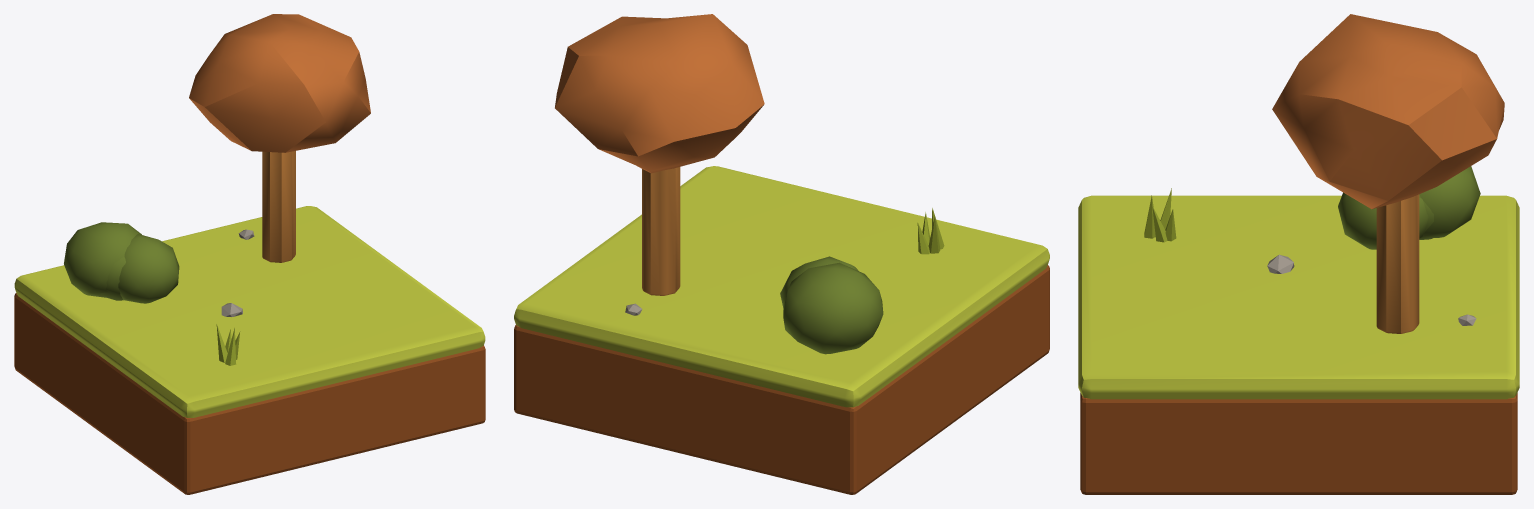
The model's file is tile_grove_autumn.glb.
3 views of the same model, side by side, from view 1: azimuth 30°, elevation 25°; view 2: azimuth 150°, elevation 25°; view 3: azimuth 270°, elevation 25° (orthographic). The views are drawn at different scales.
Visible parts, largest first — view 1: tile_grove_autumn_cap, tile_grove_autumn_body, ga_leaf, ga_trunk, tile_grove_autumn_b_lobe1, tile_grove_autumn_b_lobe2, tile_grove_autumn_b_lobe0; view 2: tile_grove_autumn_cap, tile_grove_autumn_body, ga_leaf, tile_grove_autumn_b_lobe1, ga_trunk, tile_grove_autumn_b_lobe2; view 3: tile_grove_autumn_cap, tile_grove_autumn_body, ga_leaf, ga_trunk, tile_grove_autumn_b_lobe1, tile_grove_autumn_b_lobe2.
Boxes of the visible parts, box(x1,y1,x2,y2) form: tile_grove_autumn_cap: box(14, 206, 485, 417); tile_grove_autumn_body: box(14, 293, 485, 494); ga_leaf: box(189, 14, 370, 152); ga_trunk: box(262, 151, 295, 262); tile_grove_autumn_b_lobe1: box(64, 222, 141, 297); tile_grove_autumn_b_lobe2: box(118, 234, 179, 303); tile_grove_autumn_b_lobe0: box(100, 230, 139, 300); tile_grove_autumn_cap: box(514, 166, 1049, 407); tile_grove_autumn_body: box(514, 265, 1049, 494); ga_leaf: box(555, 14, 764, 173); tile_grove_autumn_b_lobe1: box(783, 262, 883, 354); ga_trunk: box(642, 167, 680, 295); tile_grove_autumn_b_lobe2: box(780, 256, 858, 308); tile_grove_autumn_cap: box(1078, 195, 1519, 399); tile_grove_autumn_body: box(1080, 393, 1517, 494); ga_leaf: box(1272, 14, 1504, 209); ga_trunk: box(1376, 194, 1419, 333); tile_grove_autumn_b_lobe1: box(1419, 166, 1480, 237); tile_grove_autumn_b_lobe2: box(1338, 192, 1428, 249).
Size of the model in its own units: 2.02 by 2.1 by 2.02.
